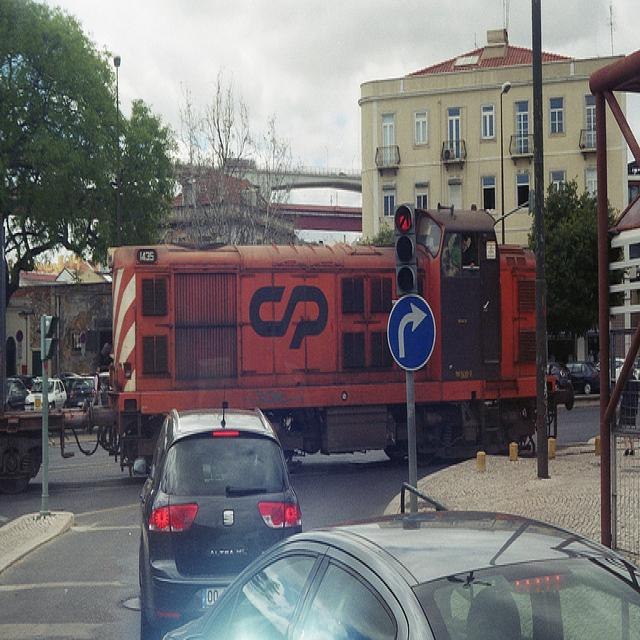Vehicle: (169, 508, 640, 632), (134, 406, 302, 630), (596, 358, 640, 390), (24, 379, 68, 410), (565, 362, 600, 394), (5, 378, 30, 411), (69, 378, 94, 407), (546, 361, 570, 387)
